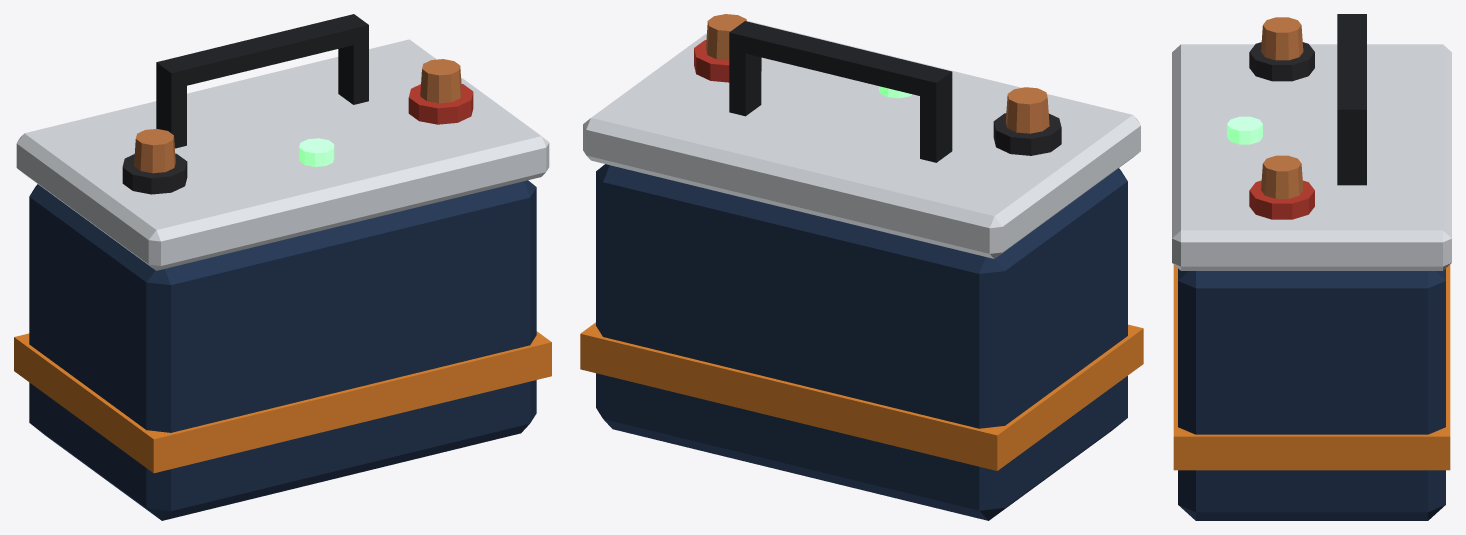
Rendered from battery_quality.glb.
3 renders of one model, left to right at view 1: azimuth 30°, elevation 25°; view 2: azimuth 150°, elevation 25°; view 3: azimuth 270°, elevation 25°, orthographic. The views are drawn at different scales.
Visible parts, largest first — view 1: battery_quality; view 2: battery_quality; view 3: battery_quality.
Part boxes in pixels (<box>): battery_quality: <box>14,14,551,520</box>; battery_quality: <box>580,14,1143,520</box>; battery_quality: <box>1172,14,1451,520</box>.
Bounding box in the file's own units: 0.308 × 0.276 × 0.188.
